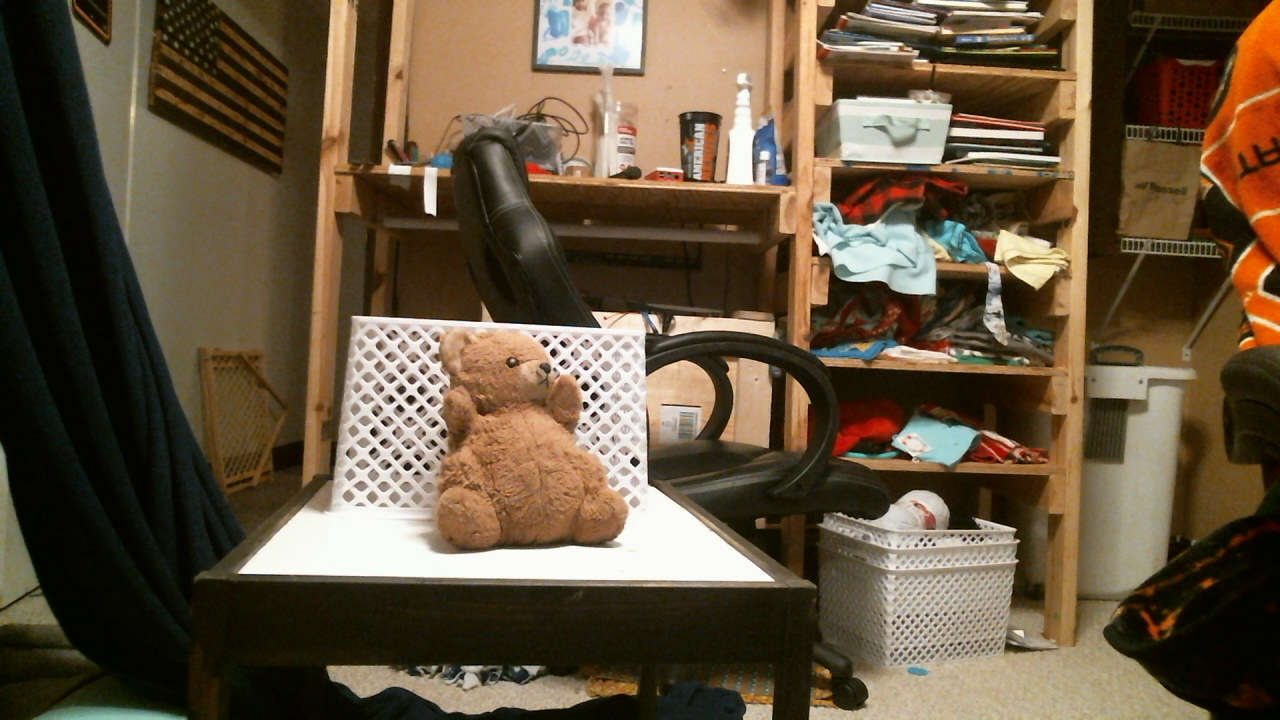Little_Mister_Bear: (502, 354, 560, 410)
